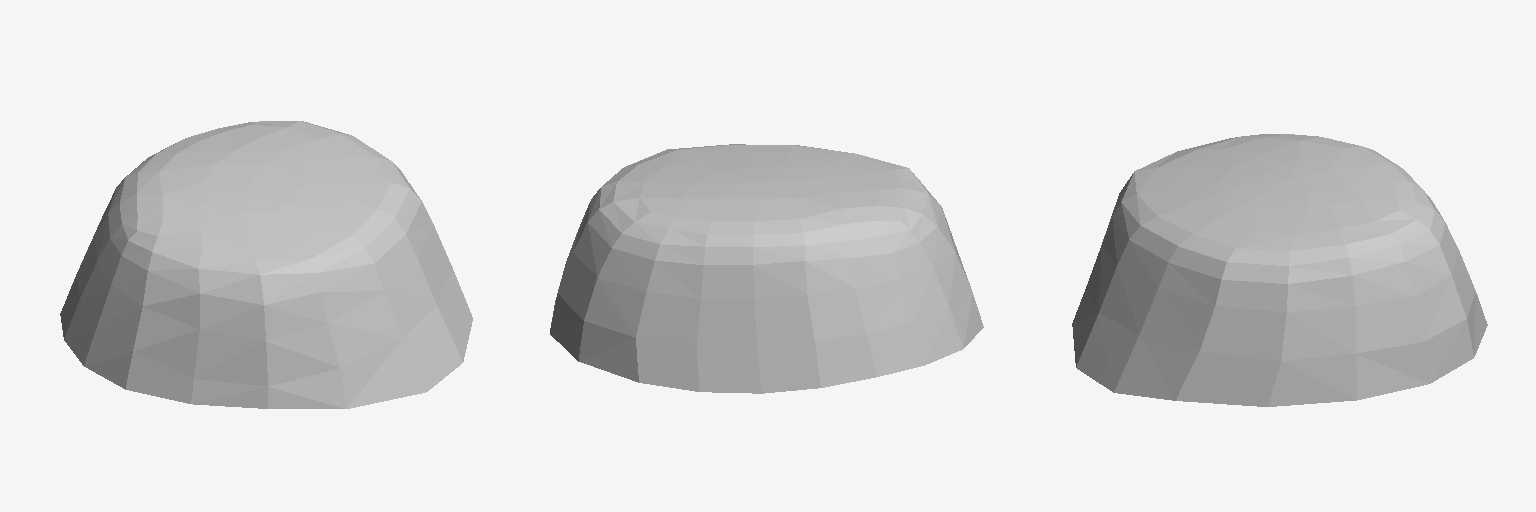
Rendered from stone2.obj.
3 views of the same model, side by side, from view 1: azimuth 30°, elevation 25°; view 2: azimuth 150°, elevation 25°; view 3: azimuth 270°, elevation 25° (orthographic).
Parts seen in each view (by area): view 1: stone2_Group1.009; view 2: stone2_Group1.009; view 3: stone2_Group1.009.
Part boxes in pixels (left/top/right/bottom): stone2_Group1.009: left=60, top=121, right=472, bottom=408; stone2_Group1.009: left=550, top=144, right=983, bottom=393; stone2_Group1.009: left=1072, top=134, right=1487, bottom=406.
Bounding box in the file's own units: 1.73 × 0.7049 × 1.69.